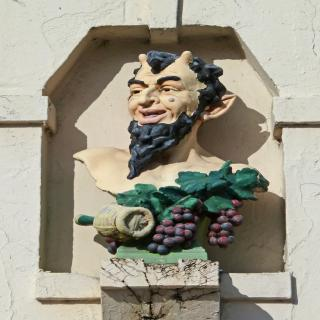Grape: (146, 200, 207, 255), (207, 199, 245, 249), (104, 236, 113, 244), (107, 248, 117, 255), (111, 242, 118, 250)
